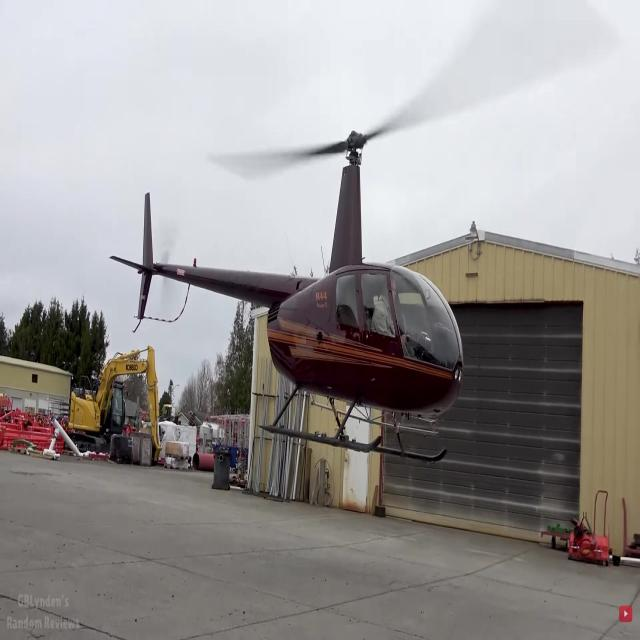CIV_HELO: (108, 128, 465, 466)
